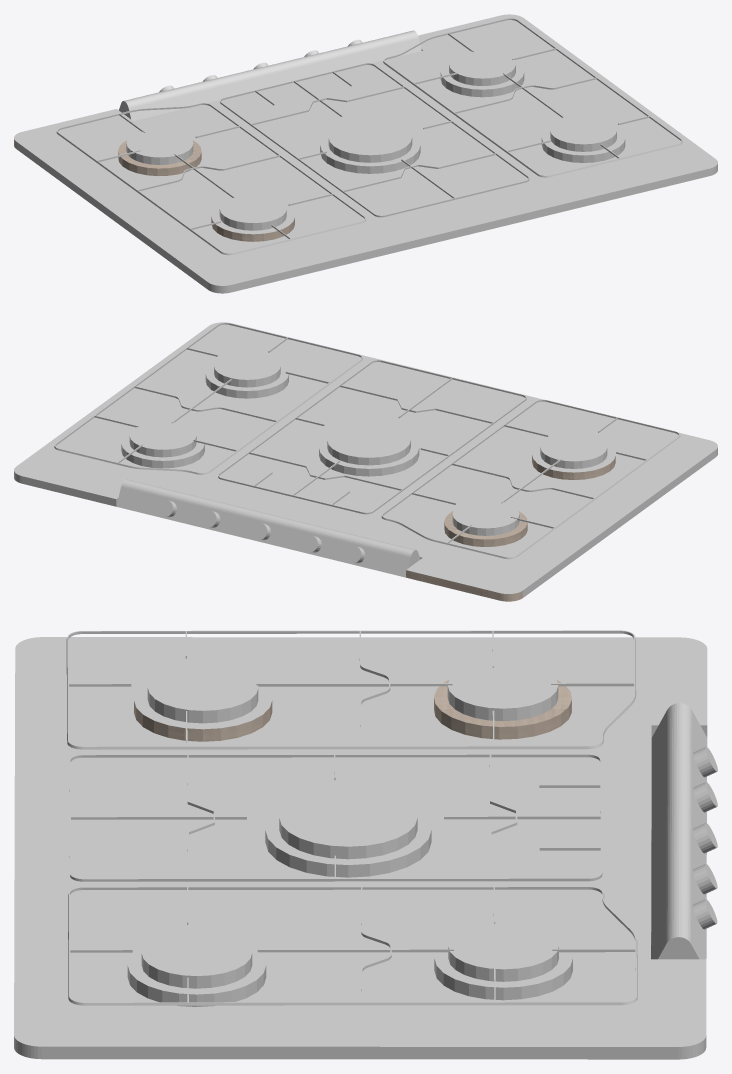
The model's file is stovetop.dae.
The picture shows the model from 3 angles, top to bottom: view 1: azimuth 30°, elevation 25°; view 2: azimuth 150°, elevation 25°; view 3: azimuth 270°, elevation 25°; orthographic projection. The views are drawn at different scales.
Visible parts, largest first — view 1: mesh7-Node_001, mesh3-Node_001, mesh2-Node_001, mesh1-Node_001; view 2: mesh7-Node_001, mesh3-Node_001, mesh1-Node_001, mesh2-Node_001; view 3: mesh7-Node_001, mesh3-Node_001, mesh2-Node_001, mesh1-Node_001.
Part boxes in pixels (<box>): mesh7-Node_001: <box>14,14,717,293</box>; mesh3-Node_001: <box>220,63,529,217</box>; mesh2-Node_001: <box>56,103,366,255</box>; mesh1-Node_001: <box>383,18,682,177</box>; mesh7-Node_001: <box>14,322,717,601</box>; mesh3-Node_001: <box>218,360,526,514</box>; mesh1-Node_001: <box>54,322,362,474</box>; mesh2-Node_001: <box>381,399,680,559</box>; mesh7-Node_001: <box>14,637,707,1059</box>; mesh3-Node_001: <box>69,754,602,881</box>; mesh2-Node_001: <box>66,630,636,749</box>; mesh1-Node_001: <box>68,886,637,1005</box>.
Size of the model in its own units: 70.06 by 50.85 by 3.1.
